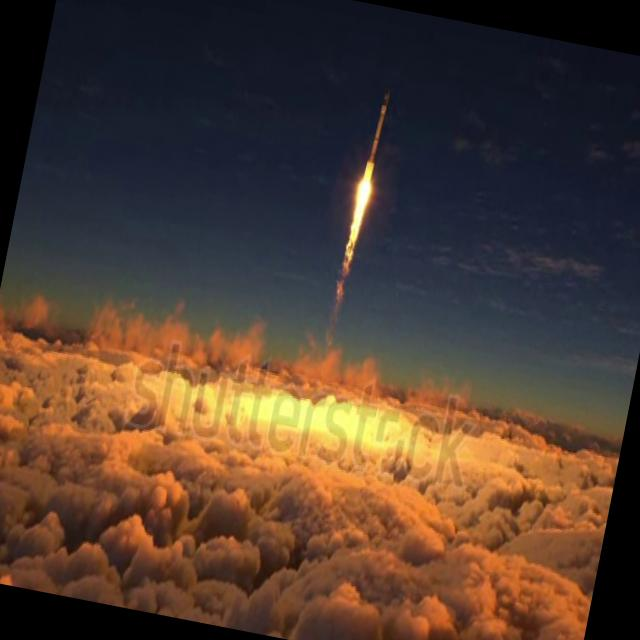rocket: (325, 90, 394, 325)
